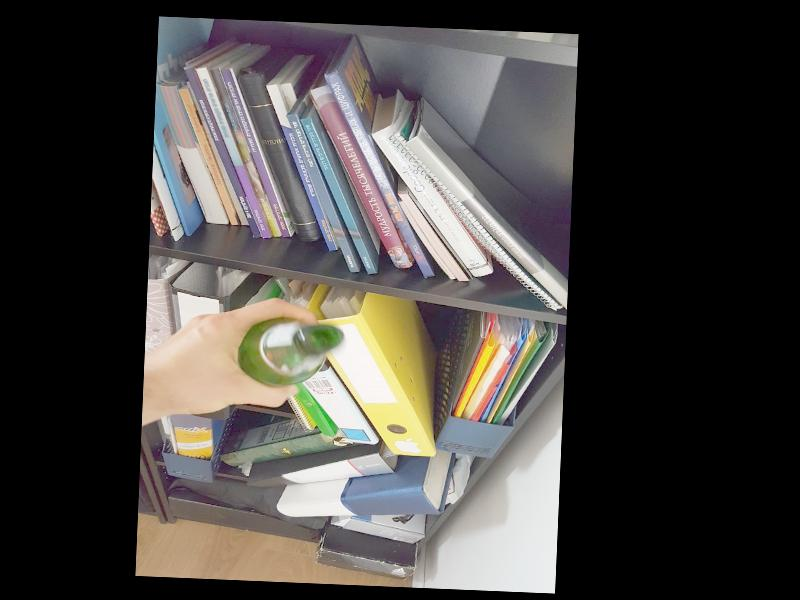Beer: (236, 316, 343, 389)
